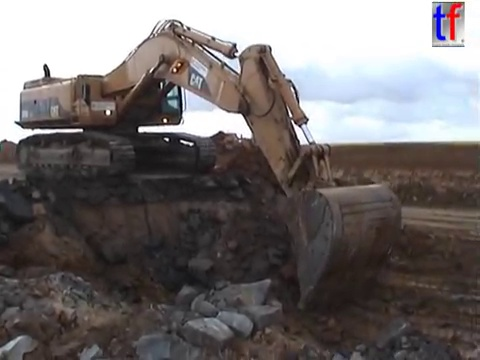excavator: (11, 16, 407, 313)
wheel loader: (211, 127, 292, 163)
